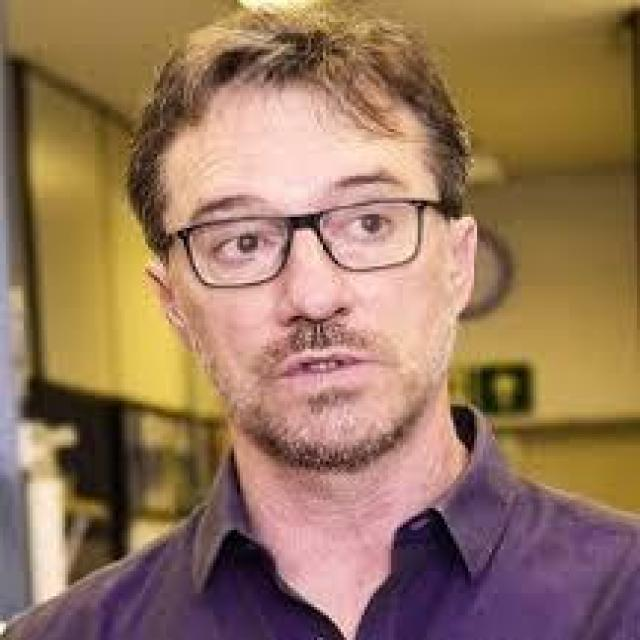person: (29, 0, 628, 637)
